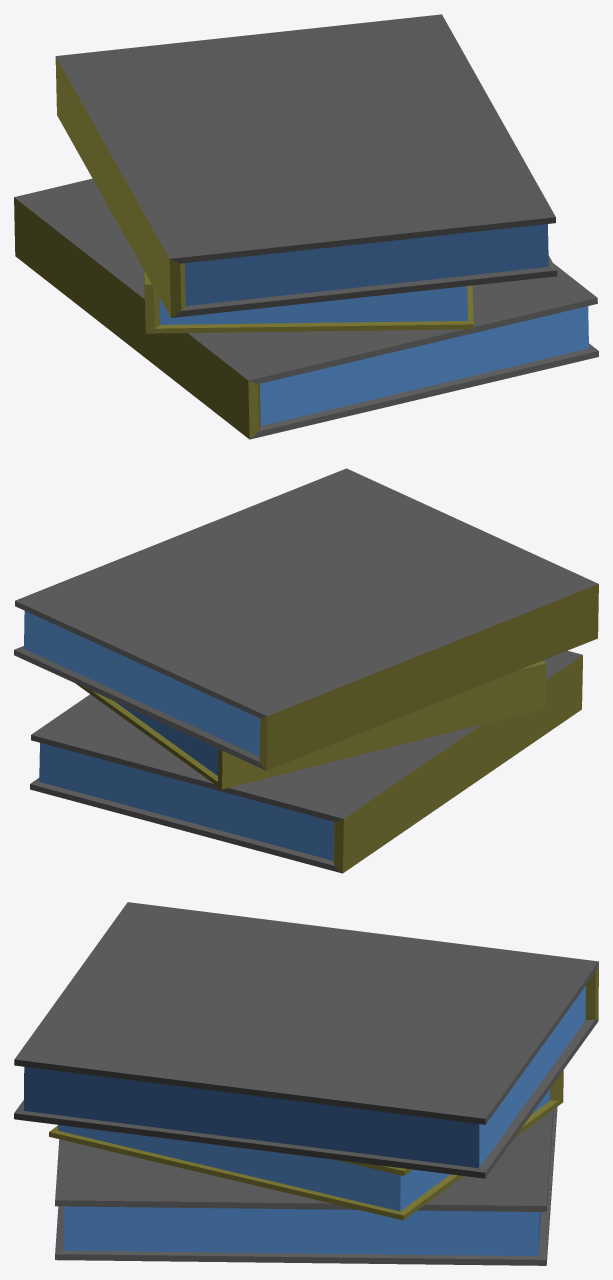
File: Office2_Books2.fbx
3 views of the same model, one above another, from view 1: azimuth 30°, elevation 25°; view 2: azimuth 150°, elevation 25°; view 3: azimuth 270°, elevation 25° (orthographic). The views are drawn at different scales.
Parts seen in each view (by area): view 1: Office2_Books2; view 2: Office2_Books2; view 3: Office2_Books2.
Part boxes in pixels (x1,y1,x2,y2): Office2_Books2: [14, 14, 598, 439]; Office2_Books2: [14, 468, 598, 873]; Office2_Books2: [14, 902, 598, 1265].
Size of the model in its own units: 42.73 by 15.61 by 47.92.
